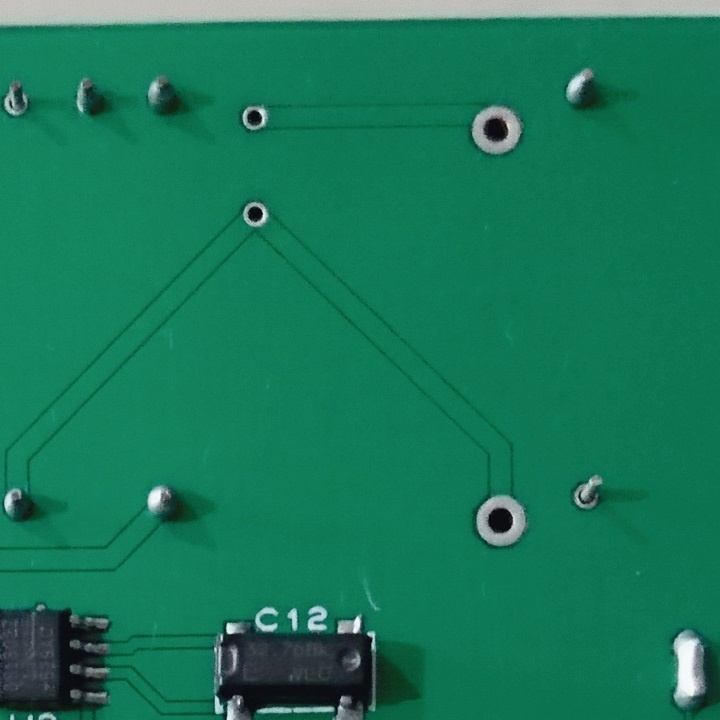F: (470, 492, 533, 550), (468, 101, 526, 158), (570, 472, 606, 514), (1, 77, 33, 123), (239, 197, 268, 229), (238, 103, 270, 131)
P: (667, 623, 712, 712)
